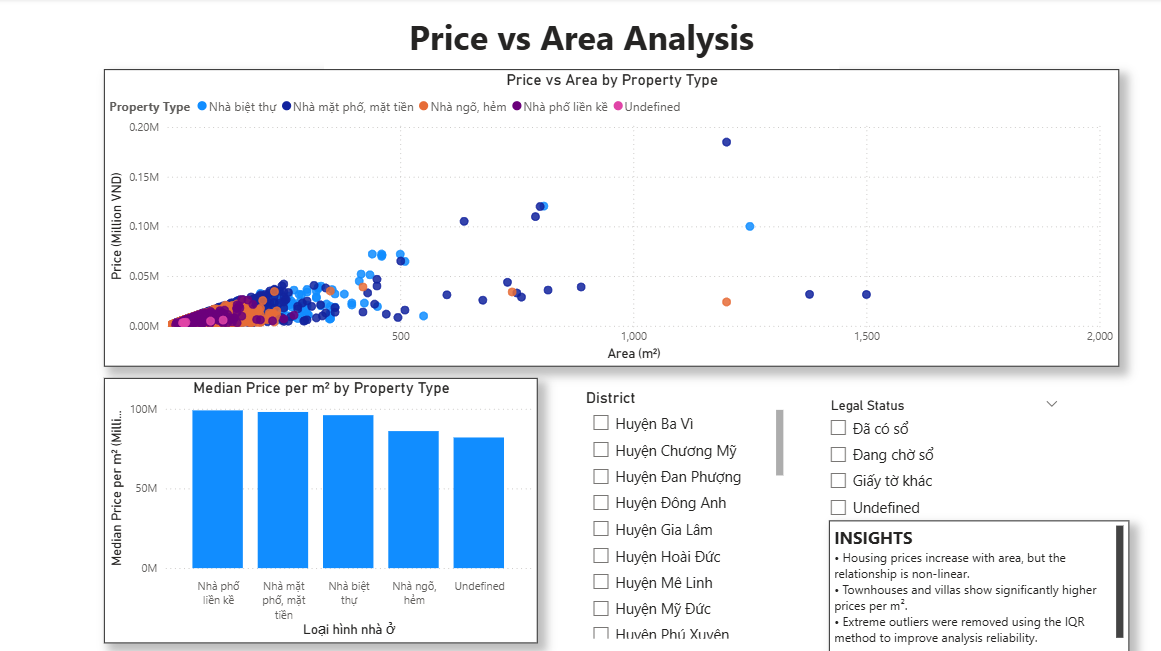

The dashboard page shown, as its layout file describes it:
{"tool":"powerbi","page":{"name":"Price vs Area Analysis","canvas":[1280,720],"ordinal":1},"visuals":[{"type":"scatterChart","title":"Price vs Area by Property Type","fields":{"X":["vw_housing_enriched.Diện tích"],"Y":["vw_housing_enriched.gia_trieu"],"Series":["vw_housing_enriched.Loại hình nhà ở"]},"box":[115.3,78.2,1114.2,326.6],"z":0},{"type":"clusteredColumnChart","title":"Median Price per m² by Property Type","fields":{"Category":["vw_housing_enriched.Loại hình nhà ở"],"Y":["Median(vw_housing_enriched.gia_vnd_m2)"]},"box":[115.3,417.2,476.2,290.9],"z":1000},{"type":"slicer","title":"District","fields":{"Values":["vw_housing_enriched.Quận,huyện"]},"box":[639.5,428.1,226.4,279.9],"z":2000},{"type":"slicer","fields":{"Values":["vw_housing_enriched.Giấy tờ pháp lý"]},"box":[900.2,433.6,274.4,269],"z":3000},{"type":"textbox","box":[911.2,573.6,329.3,146.8],"z":4000},{"type":"textbox","box":[356.8,12.3,565.4,65.9],"z":5000}]}

Visuals, with their boxes in screenshot pixels (x1, y1, x2, y2), scaled from the page's 1280x720 canvas onto the 1161x651 screenshot:
"Price vs Area by Property Type" scatterChart: box(105, 71, 1115, 366)
"Median Price per m² by Property Type" clusteredColumnChart: box(105, 377, 537, 640)
"District" slicer: box(580, 387, 785, 640)
slicer - vw_housing_enriched.Giấy tờ pháp lý: box(817, 392, 1065, 635)
textbox: box(826, 519, 1125, 650)
textbox: box(324, 11, 836, 71)
